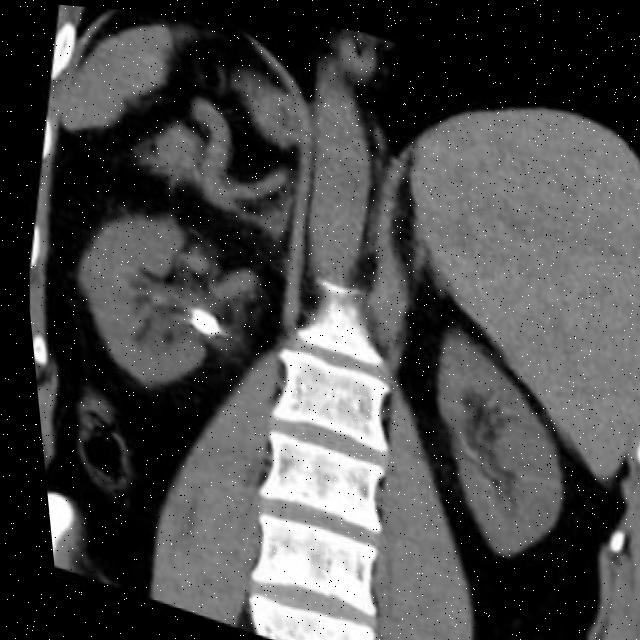Tas_Var: (172, 295, 218, 341)
